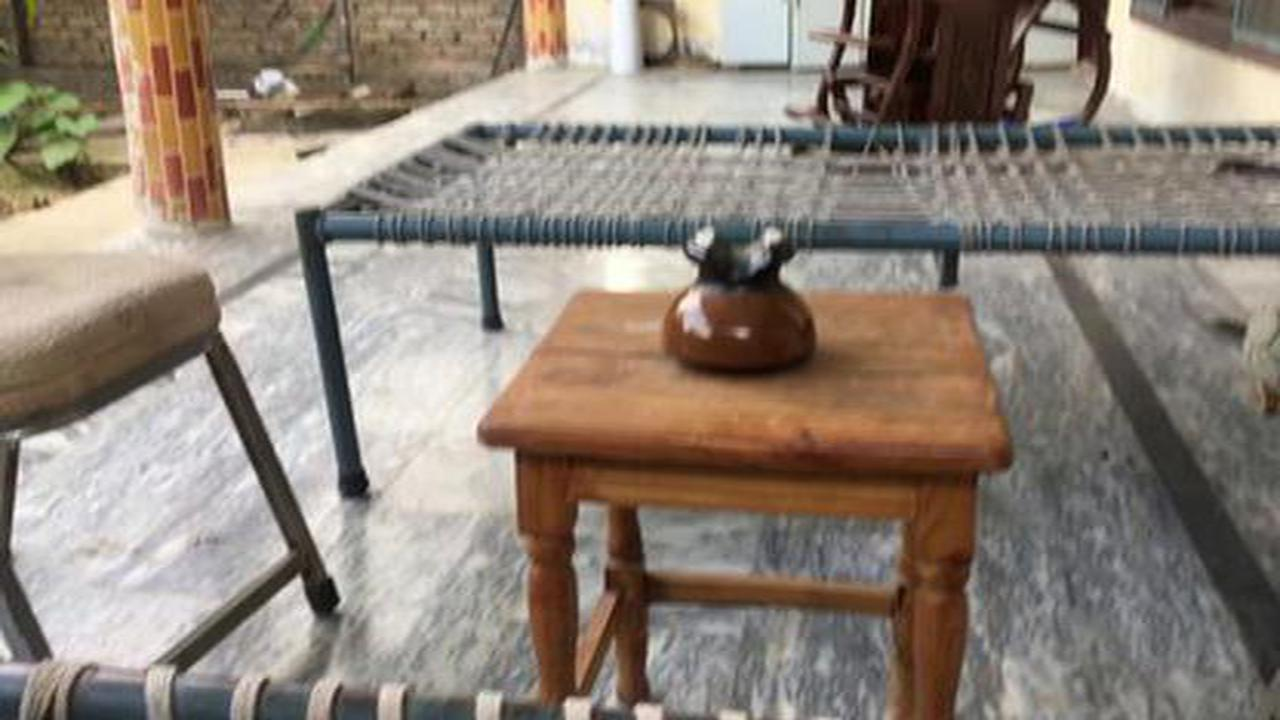insulator_pin: (644, 206, 841, 386)
